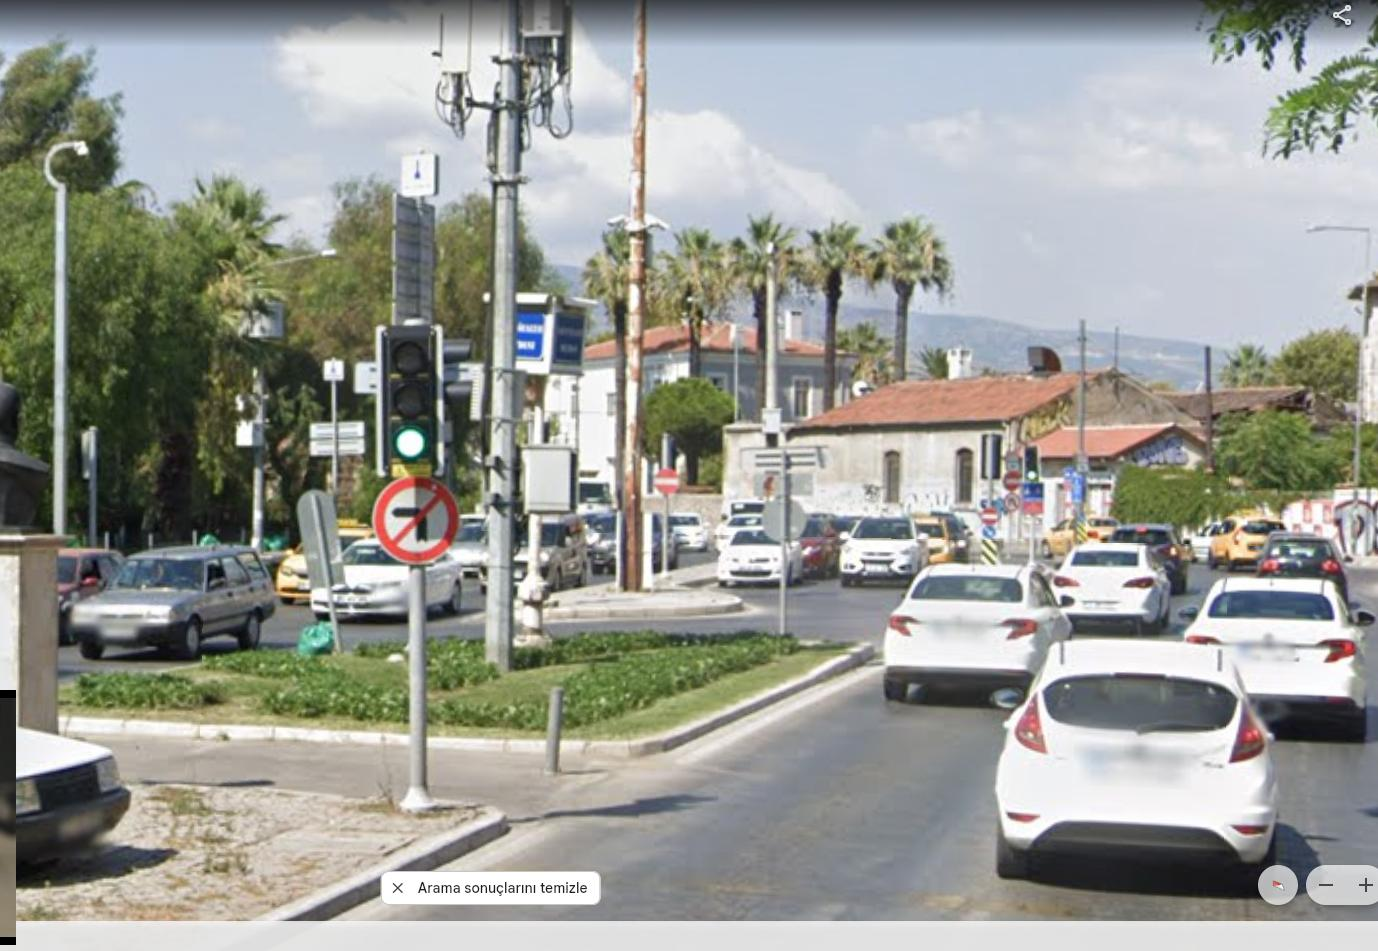greenlight: (379, 324, 440, 465), (1025, 447, 1042, 483)
leftturnsareforbidden: (379, 480, 454, 556)
